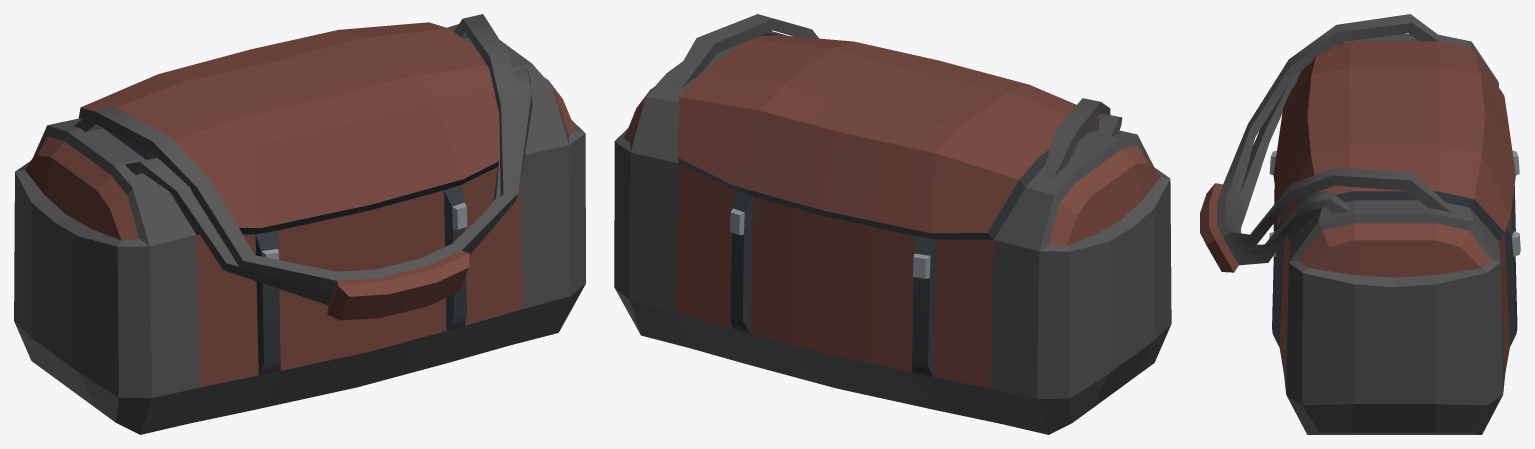
The model's file is Item_DuffleBag_01.glb.
3 renders of one model, left to right at view 1: azimuth 30°, elevation 25°; view 2: azimuth 150°, elevation 25°; view 3: azimuth 270°, elevation 25°, orthographic. The views are drawn at different scales.
Visible parts, largest first — view 1: Item_DuffleBag_01; view 2: Item_DuffleBag_01; view 3: Item_DuffleBag_01.
Boxes of the visible parts, x1,y1,x2,y2 form: Item_DuffleBag_01: [14, 14, 585, 434]; Item_DuffleBag_01: [614, 14, 1171, 434]; Item_DuffleBag_01: [1200, 14, 1520, 434].
Size of the model in its own units: 0.574 by 0.3132 by 0.3682.
1 material, 1 textured.
